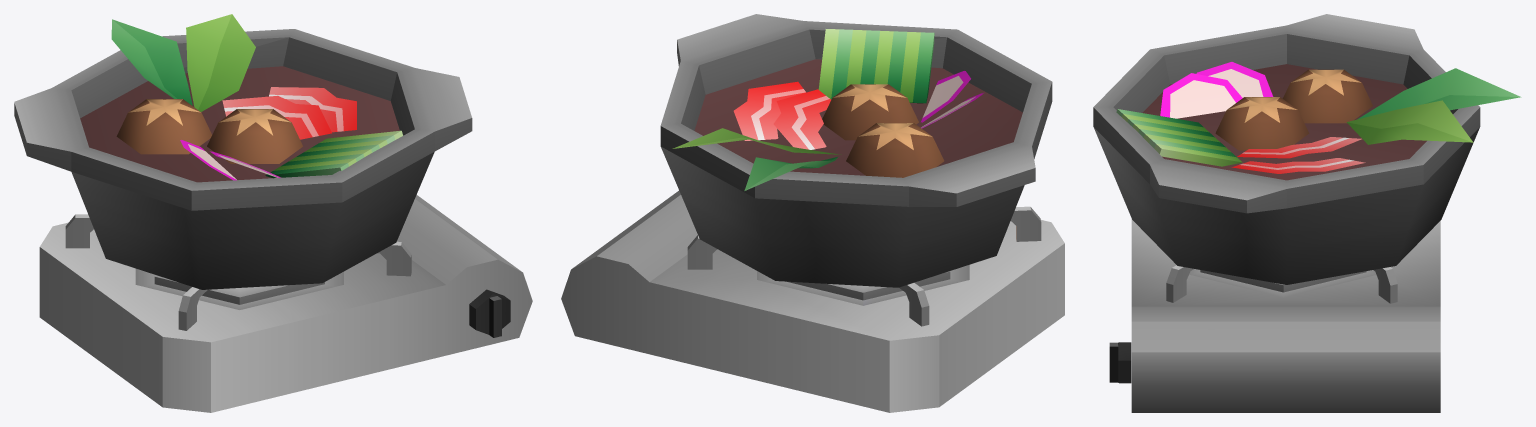
Rendered from SK_Food_003.FBX.
3 renders of one model, left to right at view 1: azimuth 30°, elevation 25°; view 2: azimuth 150°, elevation 25°; view 3: azimuth 270°, elevation 25°, orthographic. The views are drawn at different scales.
Visible parts, largest first — view 1: SK_Food_003; view 2: SK_Food_003; view 3: SK_Food_003.
Boxes of the visible parts, x1,y1,x2,y2 form: SK_Food_003: (14, 14, 532, 412); SK_Food_003: (561, 14, 1064, 412); SK_Food_003: (1093, 14, 1521, 412).
Bounding box in the file's own units: 28.94 × 16.06 × 27.12.
Materials: 1 (1 with a texture image).
